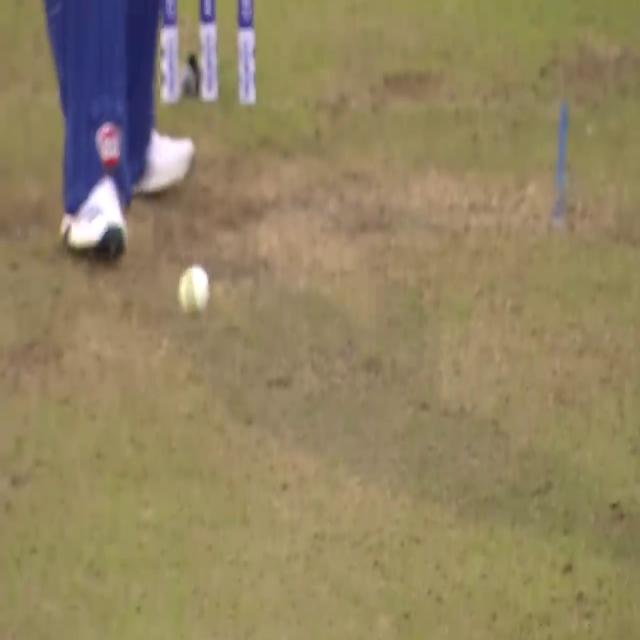ball: (178, 263, 210, 319)
